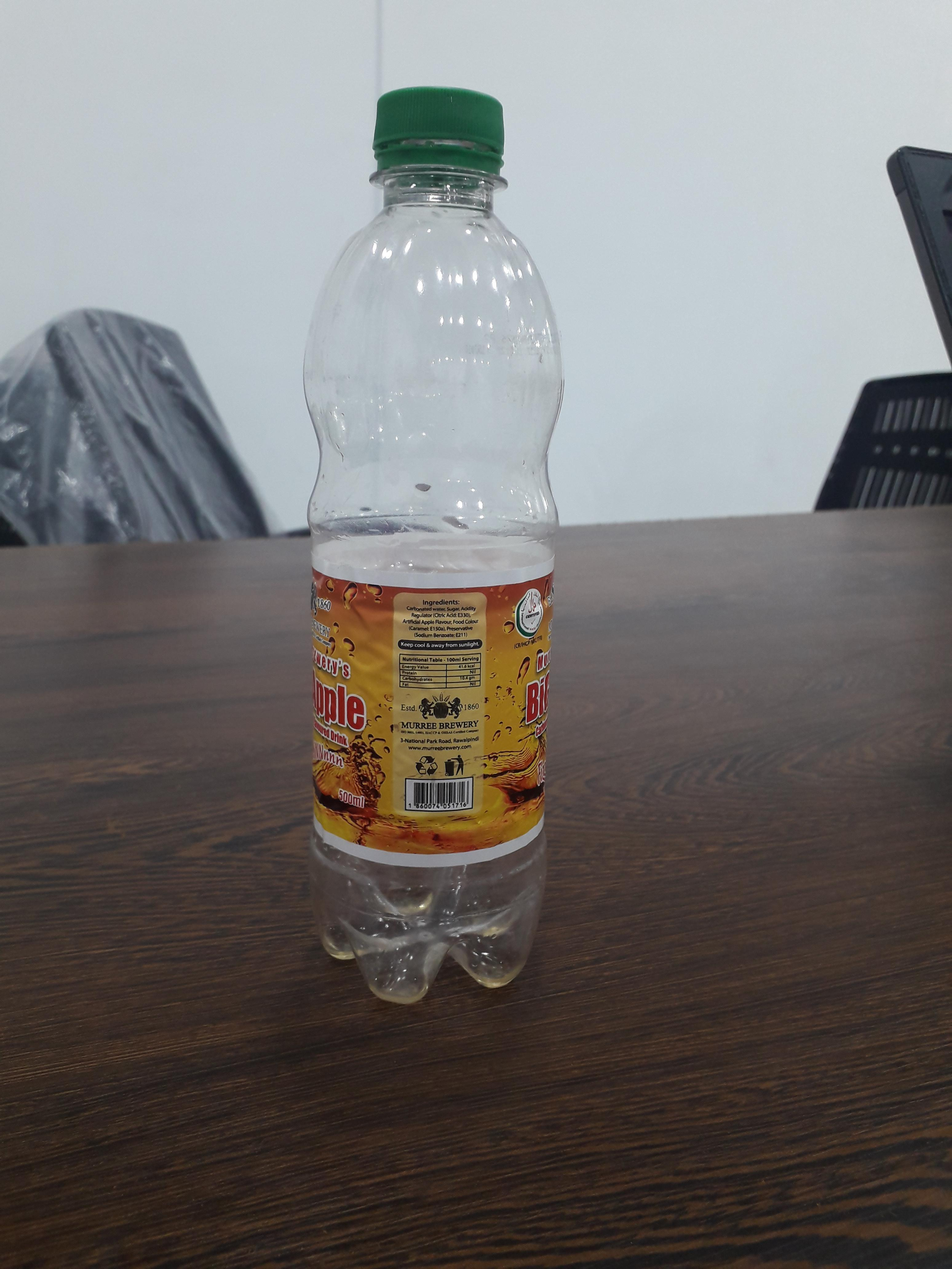bottle-plastic: (295, 83, 569, 1008)
